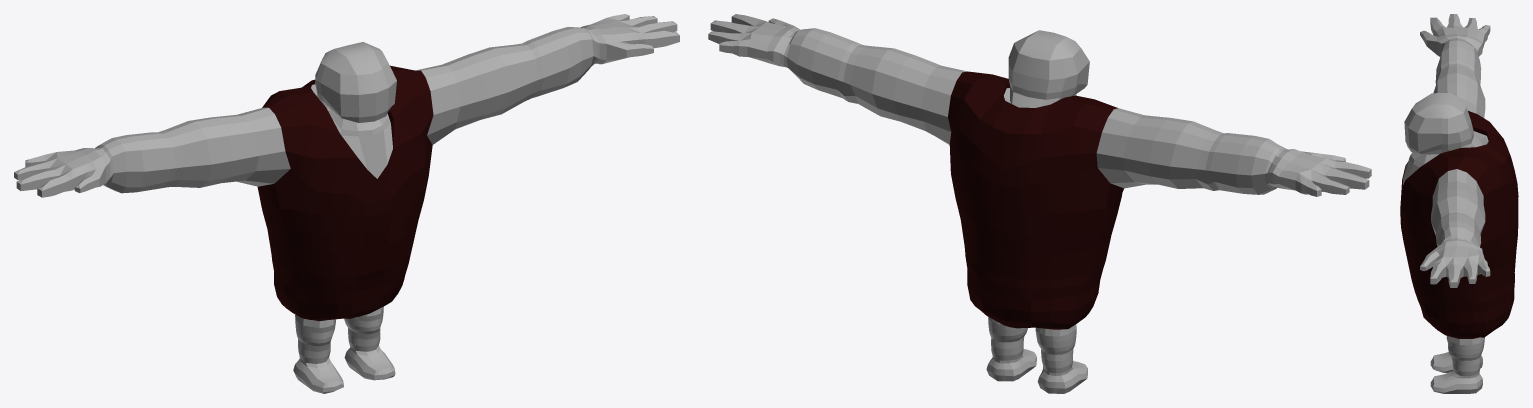
File: Character.fbx
3 renders of one model, left to right at view 1: azimuth 30°, elevation 25°; view 2: azimuth 150°, elevation 25°; view 3: azimuth 270°, elevation 25°, orthographic. The views are drawn at different scales.
Parts seen in each view (by area): view 1: pCube3; view 2: pCube3; view 3: pCube3.
Part boxes in pixels (x1=…): pCube3: x1=14, y1=14, x2=679, y2=393; pCube3: x1=708, y1=14, x2=1371, y2=393; pCube3: x1=1400, y1=14, x2=1518, y2=393.
Bounding box in the file's own units: 514 × 249 × 95.55.
